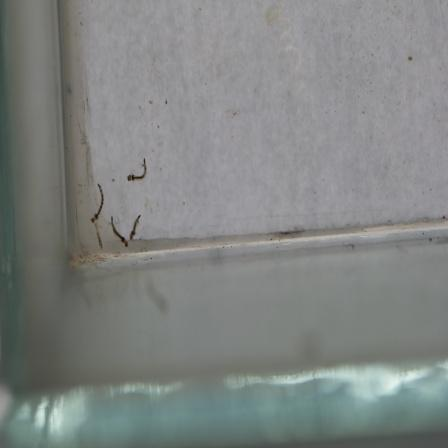Jentik-Nyamuk: (106, 211, 143, 248), (87, 178, 106, 226), (122, 156, 150, 183)
